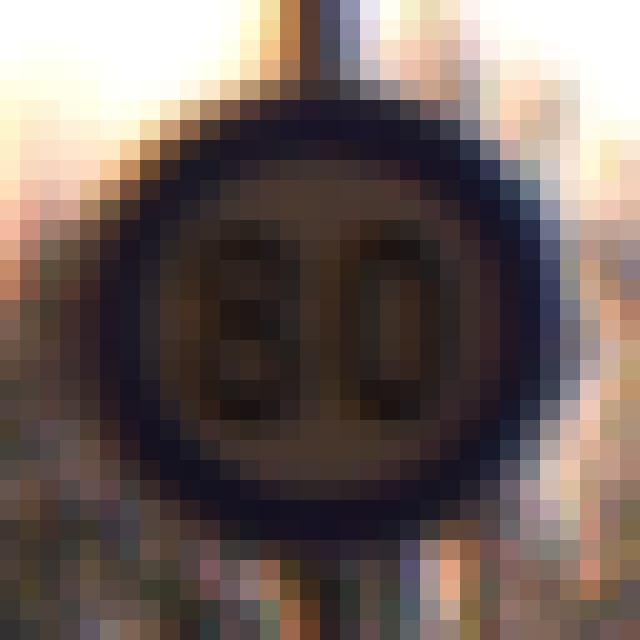SPEED-LIMIT-80: (78, 91, 562, 560)
